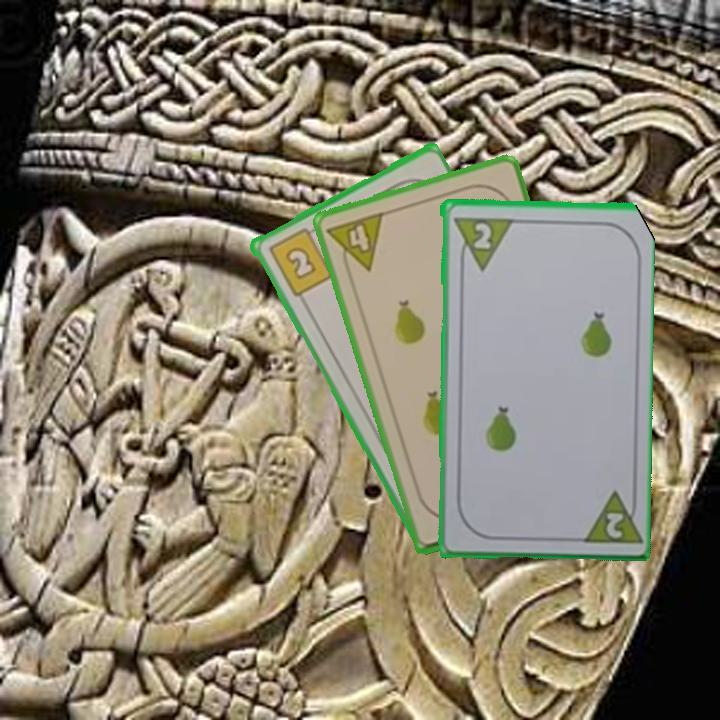2b: (264, 222, 335, 299)
2p: (575, 485, 640, 547), (449, 213, 513, 272)
4p: (323, 208, 387, 280)
